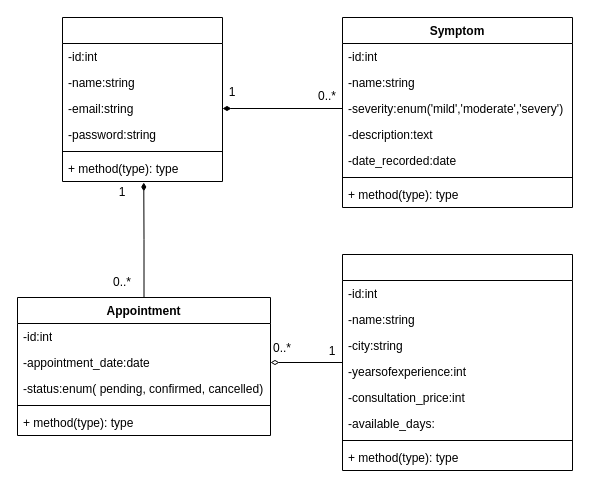
Some shapes in this 590 by 491 pixel diagram are drawn without their labels. The shapes that lost their labels are listed below. From the top down, each one's box as (x1, y1, x2, y2) in pixels, then its label:
(62, 16, 222, 182): User
(342, 254, 572, 470): Doctor
